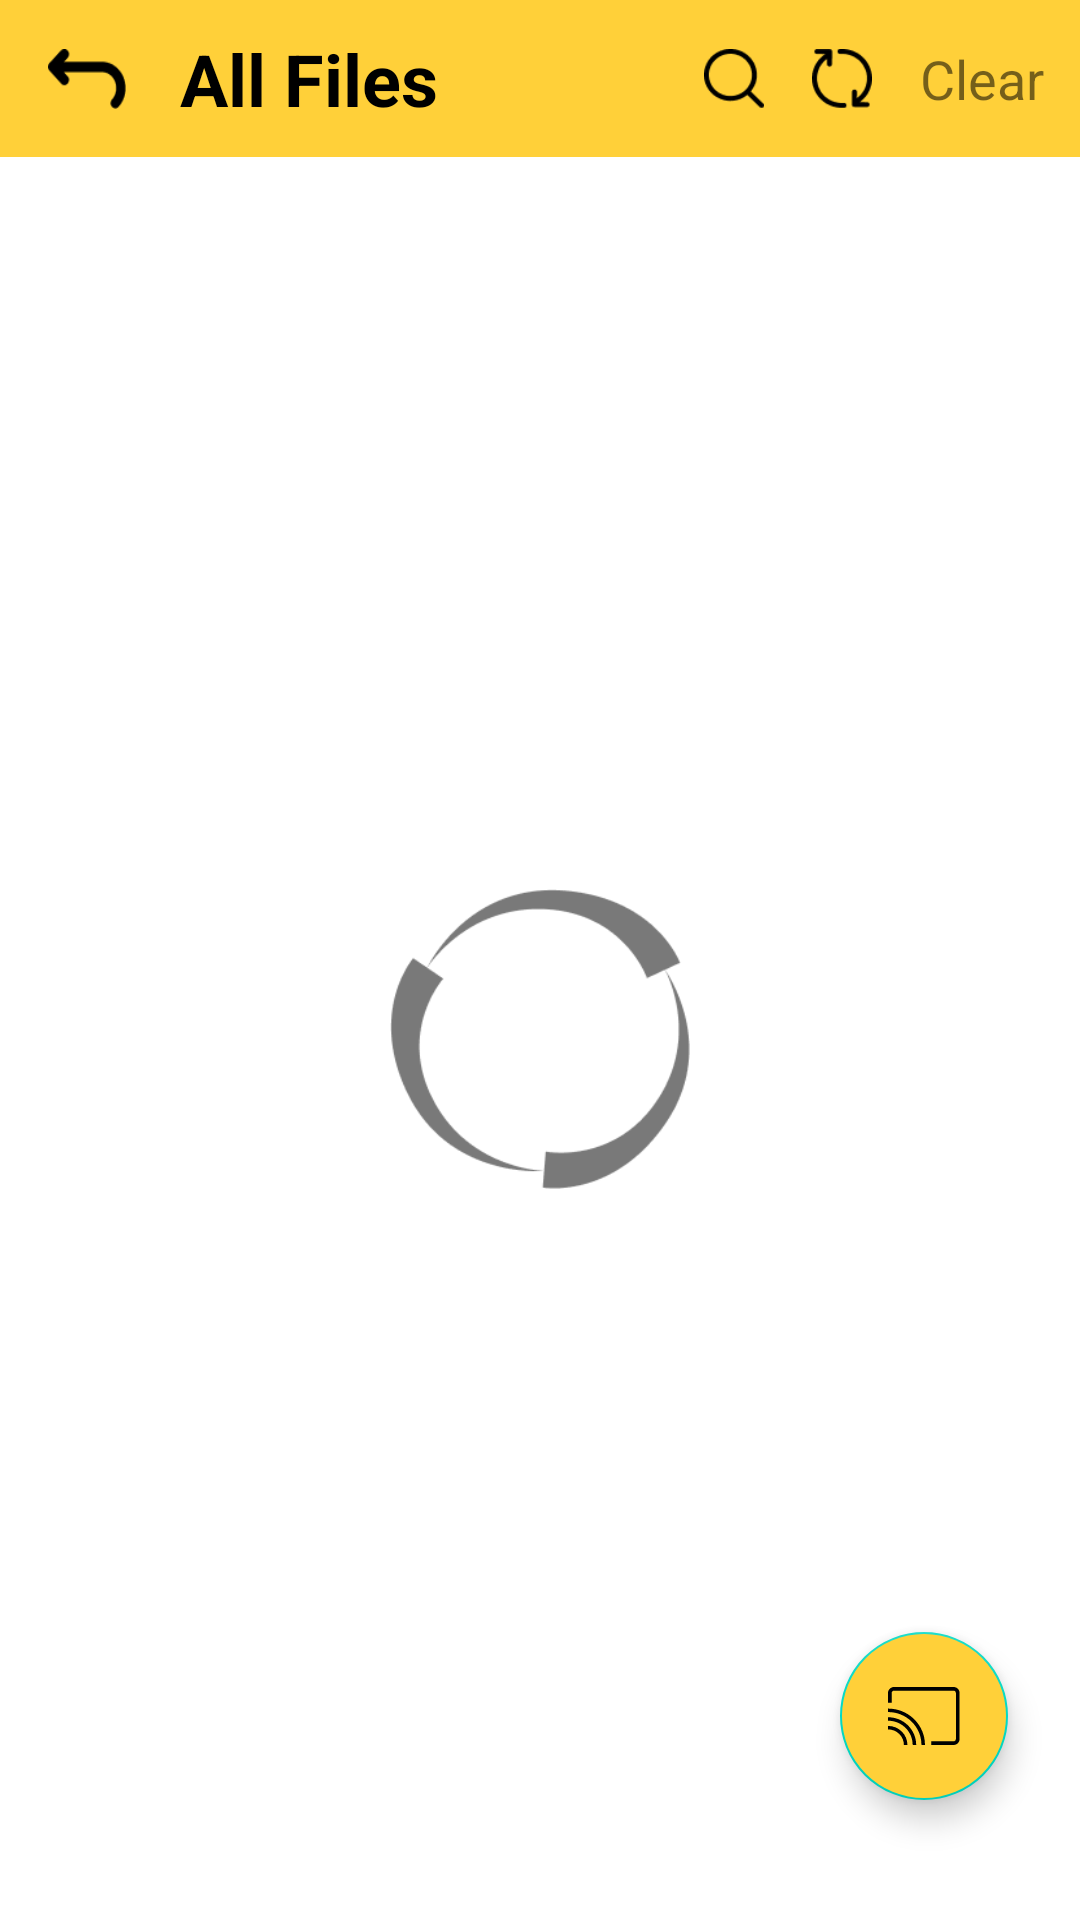

Screen size 1080px×1920px. Icon name, then its box in pixels as rect(x1, y1, x2, y2):
back: rect(48, 49, 126, 109)
cast: rect(840, 1632, 1008, 1800)
loading: rect(391, 890, 690, 1189)
refresh: rect(812, 49, 872, 108)
search: rect(704, 49, 764, 108)
